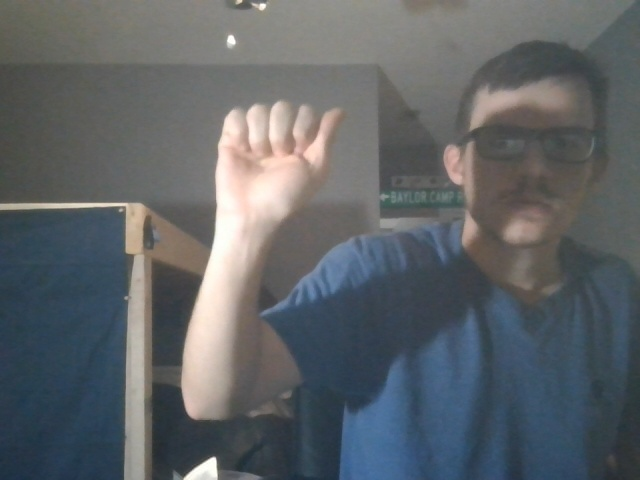A: (212, 95, 354, 222)
